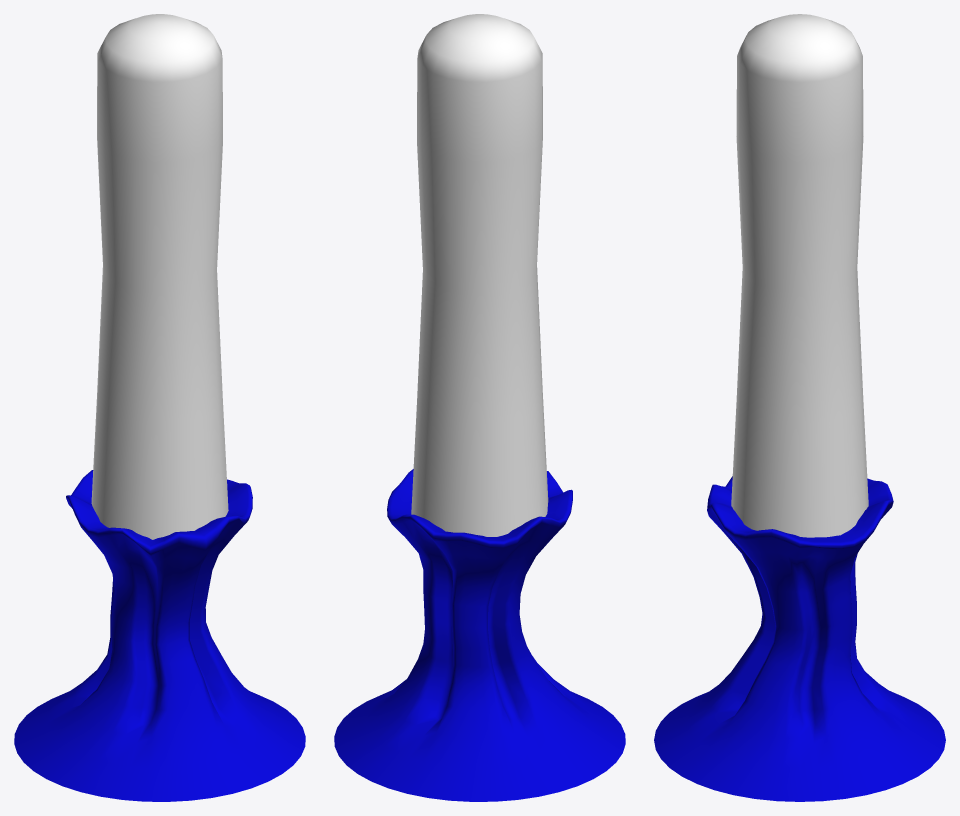
The model's file is SporeColumn_01.fbx.
3 renders of one model, left to right at view 1: azimuth 30°, elevation 25°; view 2: azimuth 150°, elevation 25°; view 3: azimuth 270°, elevation 25°, orthographic.
Parts seen in each view (by area): view 1: SporeColumn_01_Transparent, SporeColumn_01_Main; view 2: SporeColumn_01_Transparent, SporeColumn_01_Main; view 3: SporeColumn_01_Transparent, SporeColumn_01_Main.
Part boxes in pixels (bbox=[...]): SporeColumn_01_Transparent: bbox=[91, 14, 228, 539]; SporeColumn_01_Main: bbox=[14, 470, 305, 801]; SporeColumn_01_Transparent: bbox=[411, 14, 548, 536]; SporeColumn_01_Main: bbox=[334, 469, 625, 801]; SporeColumn_01_Transparent: bbox=[731, 14, 868, 537]; SporeColumn_01_Main: bbox=[654, 476, 945, 801].
Bounding box in the file's own units: 77.9 × 211 × 77.9.
